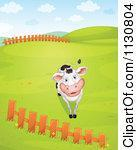cow: (47, 58, 89, 121)
